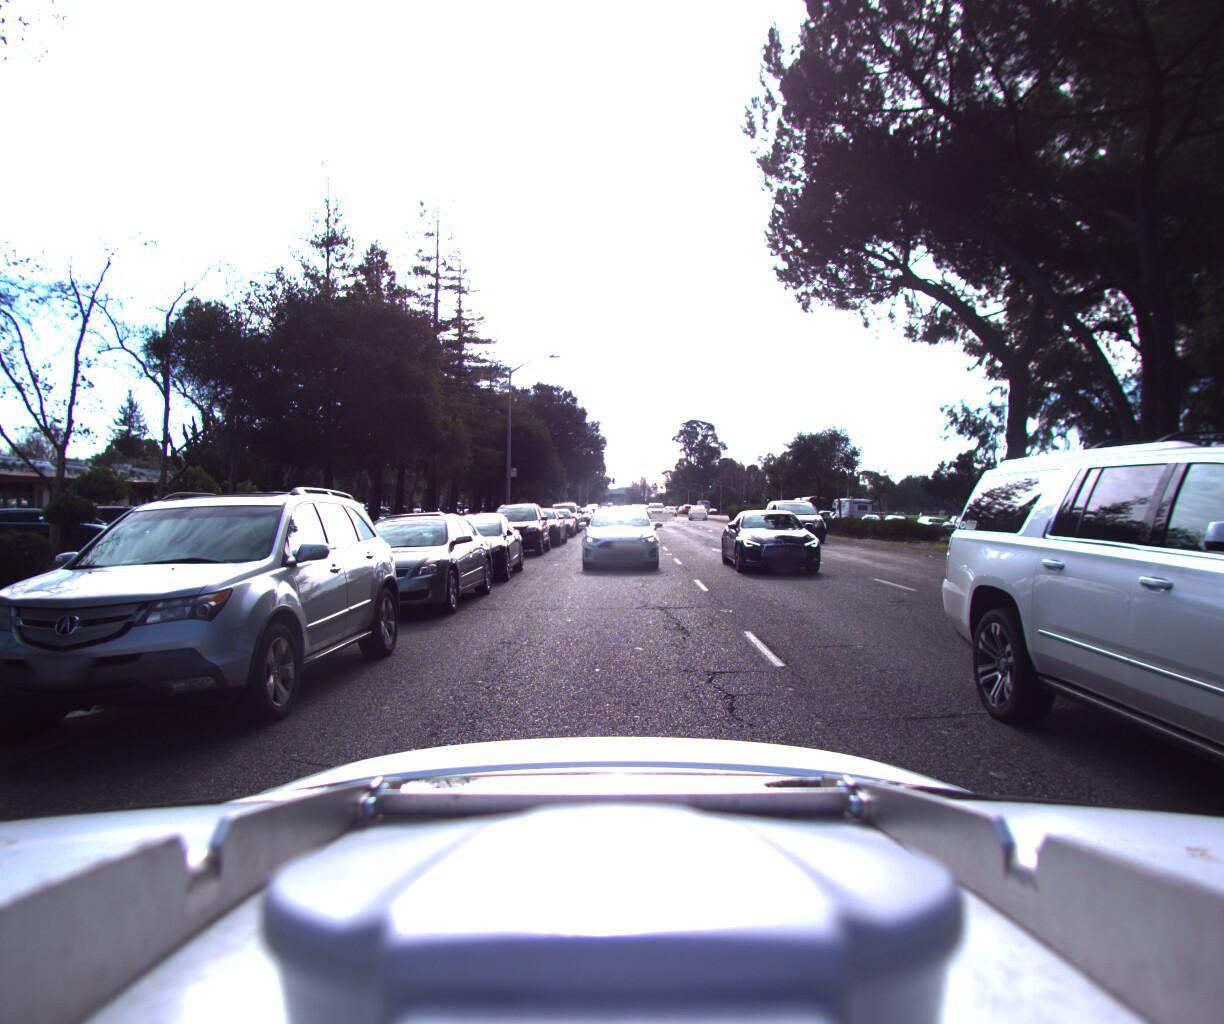car: (304, 506, 507, 631), (407, 505, 533, 593), (727, 507, 844, 585), (575, 501, 663, 575), (481, 499, 556, 559), (768, 500, 841, 546), (521, 502, 571, 548), (948, 508, 1011, 539), (537, 504, 580, 539), (902, 511, 953, 535), (684, 499, 707, 516)
